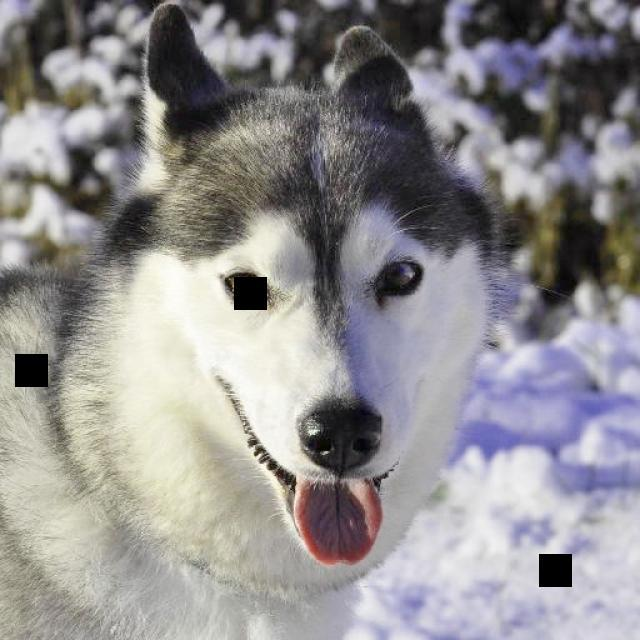adult_dog: (1, 1, 524, 640)
